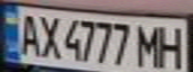4: (60, 16, 81, 62)
7: (112, 19, 136, 66), (93, 18, 115, 64), (78, 17, 96, 63)
A: (12, 10, 42, 57)
H: (154, 21, 190, 70)
M: (133, 21, 166, 69)
X: (33, 12, 63, 60)
